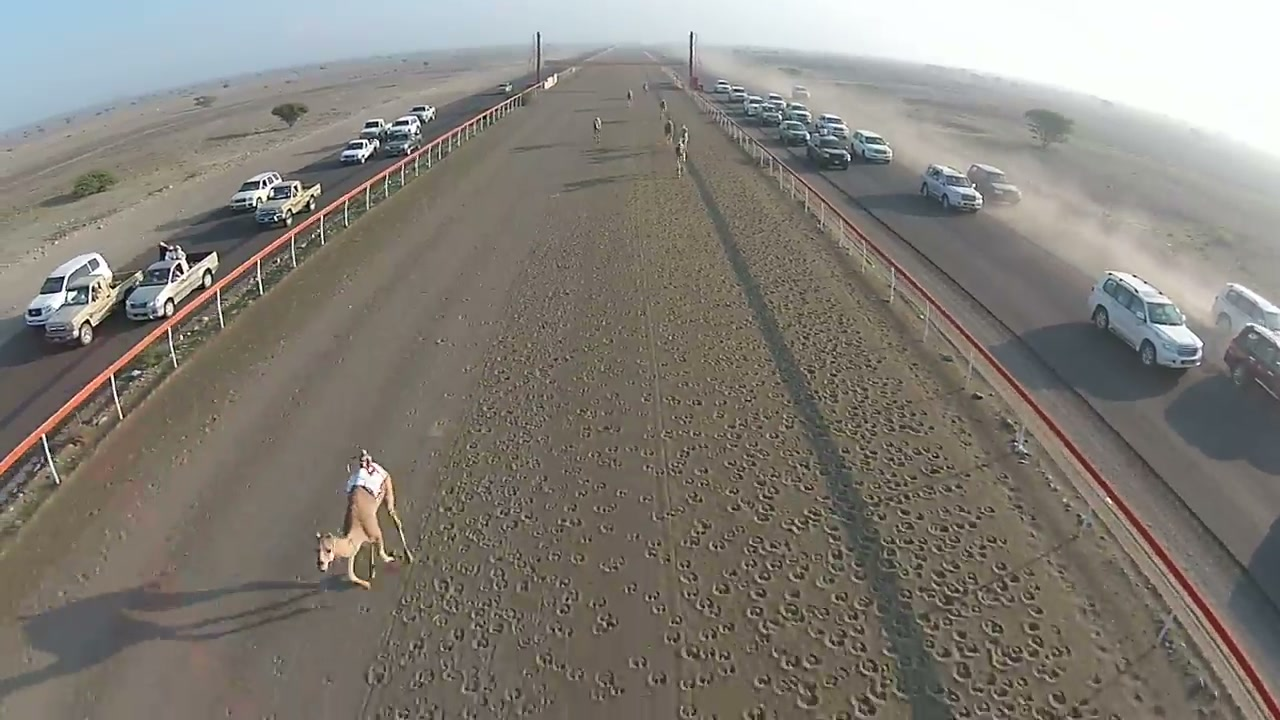animal_foot_print: (366, 193, 1099, 713)
